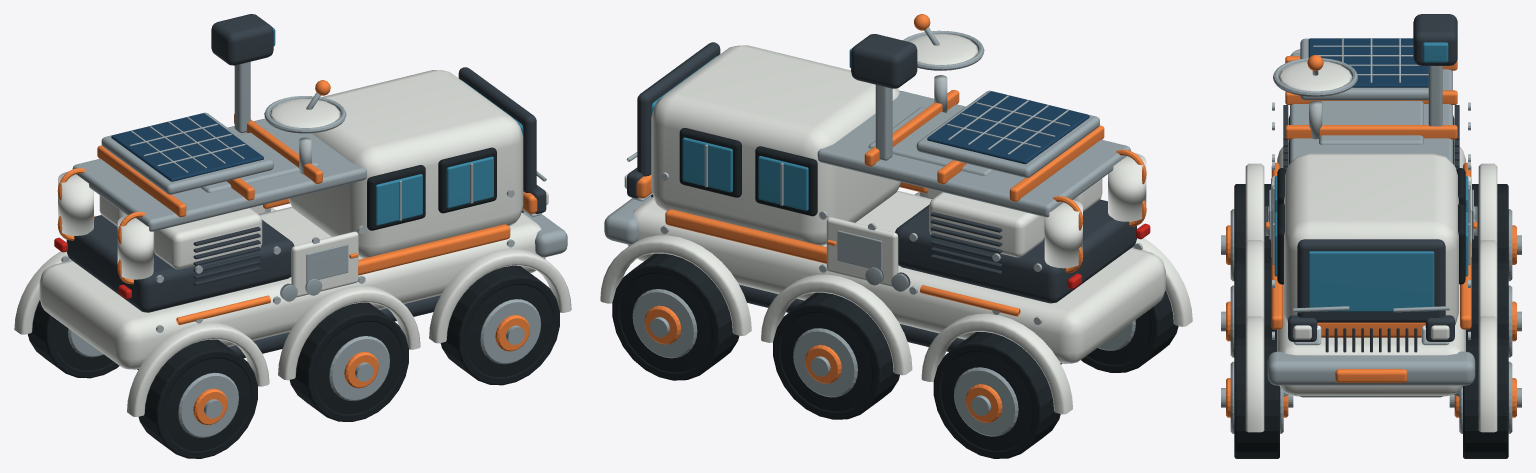
Rendered from SM_Vehicle_Rover.fbx.
The picture shows the model from 3 angles, left to right: view 1: azimuth 30°, elevation 25°; view 2: azimuth 150°, elevation 25°; view 3: azimuth 270°, elevation 25°; orthographic projection. The views are drawn at different scales.
Visible parts, largest first — view 1: A • front cabin, A • armored chassis, A • top equipment rack, A • rear cargo bed, Roof solar glass, Wheel fender arch.002, Wheel fender arch, Wheel fender arch.004, A • cargo case, A • all-terrain tire, A • all-terrain tire.002, A • all-terrain tire.004 (+29 smaller); view 2: A • front cabin, A • armored chassis, A • top equipment rack, A • rear cargo bed, Roof solar glass, Wheel fender arch.005, Wheel fender arch.003, Wheel fender arch.001, A • cargo case.001, A • all-terrain tire.003, A • all-terrain tire.001, A • all-terrain tire.005 (+29 smaller); view 3: A • front cabin, Windshield inset glazing, Front crash bumper, A • armored chassis, Windshield outer gasket, Roof solar glass, Roof service hatch, A • top equipment rack, Wheel fender arch.004, Wheel fender arch.005, A • orange rack rail.002, A • navigation camera (+39 smaller).
Boxes of the visible parts, x1,y1,x2,y2 form: A • front cabin: (288,70,523,258); A • armored chassis: (39,206,545,369); A • top equipment rack: (72,118,366,231); A • rear cargo bed: (66,215,294,312); Roof solar glass: (111,113,263,181); Wheel fender arch.002: (278,285,420,380); Wheel fender arch: (127,322,269,416); Wheel fender arch.004: (429,248,571,343); A • cargo case: (153,208,262,269); A • all-terrain tire: (164,358,250,451); A • all-terrain tire.002: (315,321,401,414); A • all-terrain tire.004: (467,284,552,377); A • front cabin: (651,45,900,245); A • armored chassis: (627,190,1165,363); A • top equipment rack: (817,91,1130,217); A • rear cargo bed: (895,199,1136,303); Roof solar glass: (927,91,1089,164); Wheel fender arch.005: (600,235,751,335); Wheel fender arch.003: (761,274,912,375); Wheel fender arch.001: (921,313,1072,414); A • cargo case.001: (929,192,1044,257); A • all-terrain tire.003: (780,313,872,411); A • all-terrain tire.001: (941,352,1032,450); A • all-terrain tire.005: (620,273,711,372); A • front cabin: (1284,153,1458,337); Windshield inset glazing: (1308,251,1434,311); Front crash bumper: (1267,351,1475,385); A • armored chassis: (1277,143,1465,396); Windshield outer gasket: (1297,239,1445,322); Roof solar glass: (1308,38,1428,87); Roof service hatch: (1319,101,1423,144); A • top equipment rack: (1290,53,1452,162); Wheel fender arch.004: (1245,316,1264,432); Wheel fender arch.005: (1478,316,1497,432); A • orange rack rail.002: (1285,125,1457,139); A • navigation camera: (1413,14,1457,65).
Bounding box in the file's own units: 464 × 325 × 258.
